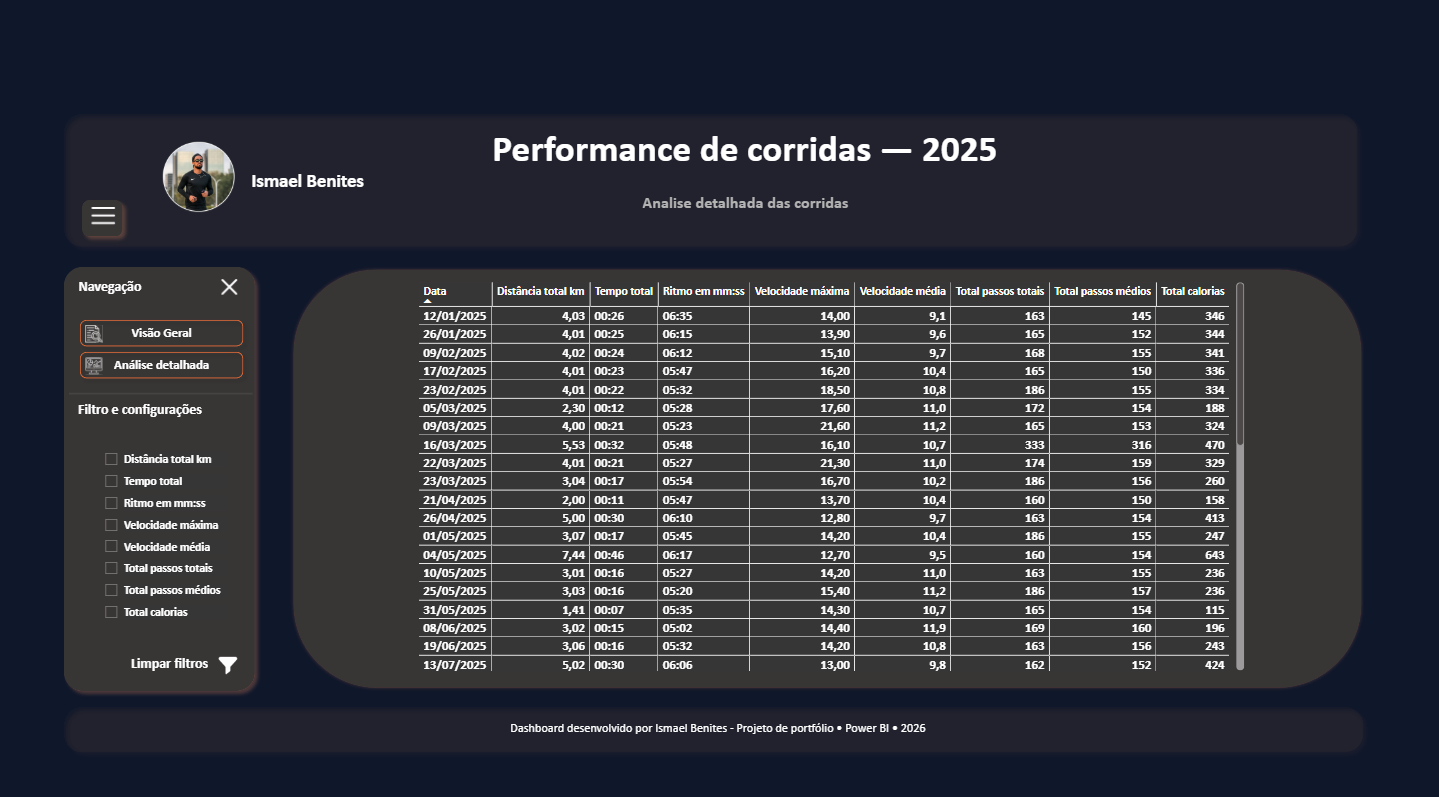

The page's visual inventory and layout, read from the dashboard file:
{"tool":"powerbi","page":{"name":"Detalhes","canvas":[1650,920],"ordinal":1},"visuals":[{"type":"shape","box":[65.3,125,1498.3,170],"z":0},{"type":"shape","box":[85.3,223.3,65,60],"z":1000},{"type":"image","box":[102,240,35,26.7],"z":2000},{"type":"shape","box":[65,300,236.7,503.3],"z":3000},{"type":"shape","title":"Filtro e configurações","box":[81.7,462,160,25],"z":4000},{"type":"actionButton","box":[92,228.3,58.3,48.3],"z":5000},{"type":"textbox","box":[560,141.7,593.3,71.7],"z":6000},{"type":"shape","box":[80,440,210,26.7],"z":7000},{"type":"image","box":[155,141.7,148.3,141.7],"z":8000},{"type":"textbox","box":[283.3,191.7,140,36.7],"z":9000},{"type":"textbox","box":[703.3,218.3,315,35],"z":10000},{"type":"shape","box":[65,803.3,1505,70],"z":11000},{"type":"textbox","box":[580,821.7,488.3,35],"z":12000},{"type":"shape","box":[333.3,308.3,1230,486.7],"z":13000},{"type":"tableEx","fields":{"Values":["fCorridas.Data","Medidas.Distância total km","Medidas.Tempo total","Medidas.Ritmo em mm:ss","Medidas.Velocidade máxima","Medidas.Velocidade média","Medidas.Total passos totais","Medidas.Total passos médios","Medidas.Total calorias"]},"box":[475,321.7,955,454],"z":14000},{"type":"slicer","fields":{"Values":["Tb_medidas.Tb_medidas"]},"box":[108.3,511.7,156.7,210],"z":15000},{"type":"shape","title":"Navegação","box":[81.7,321.7,91.7,23.3],"z":16000},{"type":"image","box":[250.7,322.3,26.7,18.3],"z":17000},{"type":"image","box":[250,751.6,25,25],"z":18000},{"type":"shape","title":"Limpar filtros","box":[150,753.1,90.6,23.4],"z":19000},{"type":"actionButton","box":[240.8,742.3,42,40],"z":20000},{"type":"actionButton","title":"Visão Geral","box":[83,360,205,48.3],"z":21000},{"type":"actionButton","title":"Visão Geral","box":[83.3,396.7,205,48.3],"z":22000}]}

Visuals, with their boxes in screenshot pixels (x1, y1, x2, y2), scaled from the page's 1650x920 canvas onto the 1439x797 screenshot:
shape: bbox(57, 108, 1364, 256)
shape: bbox(74, 193, 131, 245)
image: bbox(89, 208, 119, 231)
shape: bbox(57, 260, 263, 696)
"Filtro e configurações" shape: bbox(71, 400, 211, 422)
actionButton: bbox(80, 198, 131, 240)
textbox: bbox(488, 123, 1006, 185)
shape: bbox(70, 381, 253, 404)
image: bbox(135, 123, 265, 246)
textbox: bbox(247, 166, 369, 198)
textbox: bbox(613, 189, 888, 219)
shape: bbox(57, 696, 1369, 757)
textbox: bbox(506, 712, 932, 742)
shape: bbox(291, 267, 1363, 689)
tableEx - fCorridas.Data x Medidas.Distância total km: bbox(414, 279, 1247, 672)
slicer - Tb_medidas.Tb_medidas: bbox(94, 443, 231, 625)
"Navegação" shape: bbox(71, 279, 151, 299)
image: bbox(219, 279, 242, 295)
image: bbox(218, 651, 240, 673)
"Limpar filtros" shape: bbox(131, 652, 210, 673)
actionButton: bbox(210, 643, 247, 678)
"Visão Geral" actionButton: bbox(72, 312, 251, 354)
"Visão Geral" actionButton: bbox(73, 344, 251, 386)
